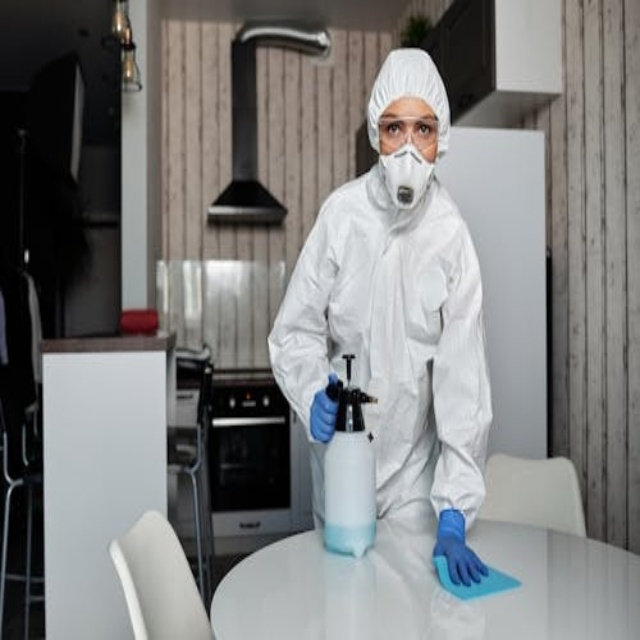Gafas: (378, 107, 442, 157)
Guantes: (433, 510, 489, 588), (310, 374, 342, 444)
Mascara: (379, 144, 435, 211)
